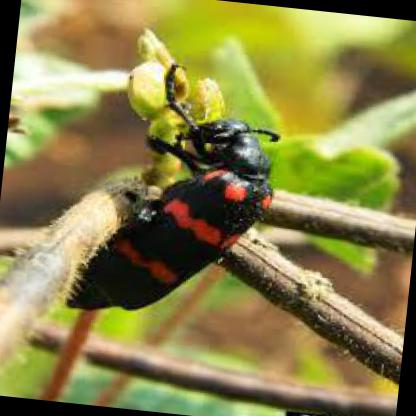blister beetle: (62, 66, 274, 314)
